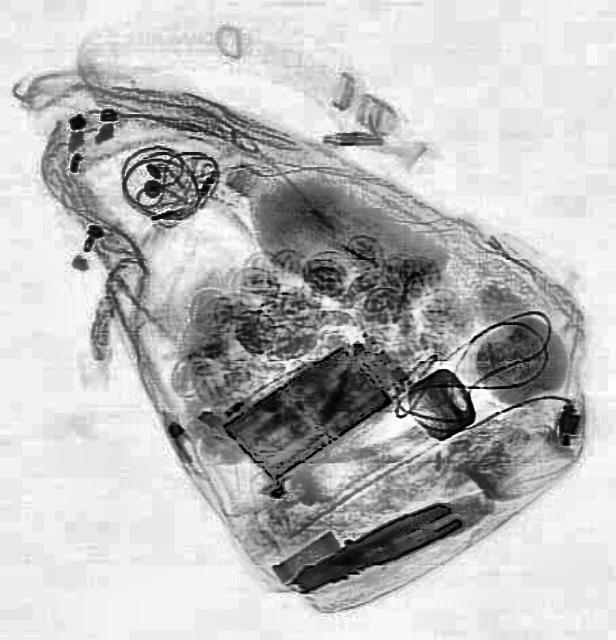Pliers: (287, 494, 465, 600)
